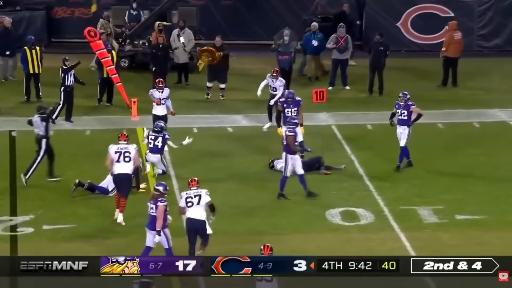Helmet: (154, 182, 168, 194), (153, 121, 166, 133), (188, 177, 199, 190), (398, 92, 410, 103), (261, 244, 273, 255), (155, 79, 165, 90), (284, 91, 295, 101), (118, 133, 128, 143), (269, 159, 277, 169), (271, 69, 279, 79)
Jersey: (179, 189, 211, 219), (109, 144, 137, 173), (146, 198, 167, 231), (278, 98, 301, 127), (149, 88, 169, 115), (147, 132, 169, 155), (395, 102, 415, 126), (266, 74, 285, 94), (283, 131, 297, 155), (256, 278, 278, 287), (273, 159, 285, 172)
Player: (106, 133, 140, 225), (179, 178, 215, 255), (278, 129, 317, 199), (390, 92, 423, 171), (141, 182, 173, 255), (276, 91, 310, 158), (143, 121, 178, 177), (258, 69, 285, 129), (149, 79, 175, 124), (72, 175, 115, 195), (302, 156, 345, 174), (256, 277, 278, 287)
